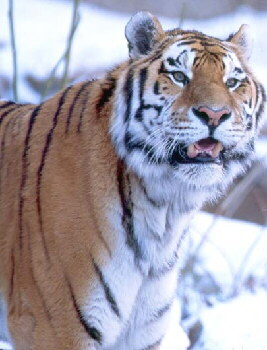Tigre: (19, 24, 267, 250)
